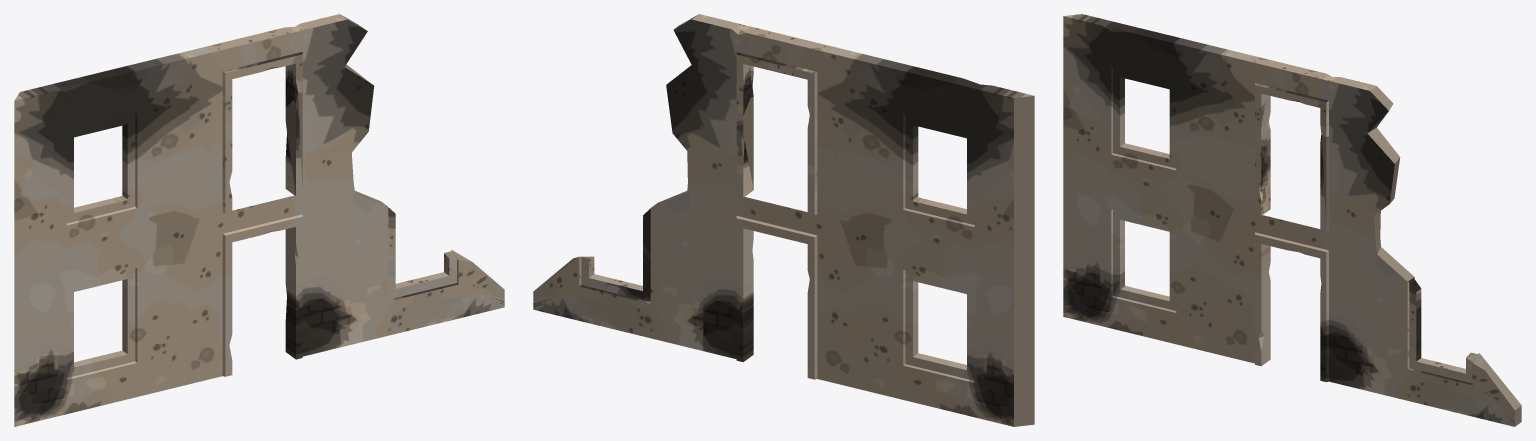
File: SM_Bld_Village_01_Destroyed.glb
3 renders of one model, left to right at view 1: azimuth 30°, elevation 25°; view 2: azimuth 150°, elevation 25°; view 3: azimuth 330°, elevation 25°, orthographic. The views are drawn at different scales.
Visible parts, largest first — view 1: SM_Bld_Village_01_Destroyed; view 2: SM_Bld_Village_01_Destroyed; view 3: SM_Bld_Village_01_Destroyed.
Boxes of the visible parts, x1,y1,x2,y2 form: SM_Bld_Village_01_Destroyed: [14, 14, 504, 426]; SM_Bld_Village_01_Destroyed: [533, 14, 1034, 426]; SM_Bld_Village_01_Destroyed: [1063, 14, 1521, 426].
Bounding box in the file's own units: 9.43 × 6 × 0.3412.
1 material, 1 textured.
